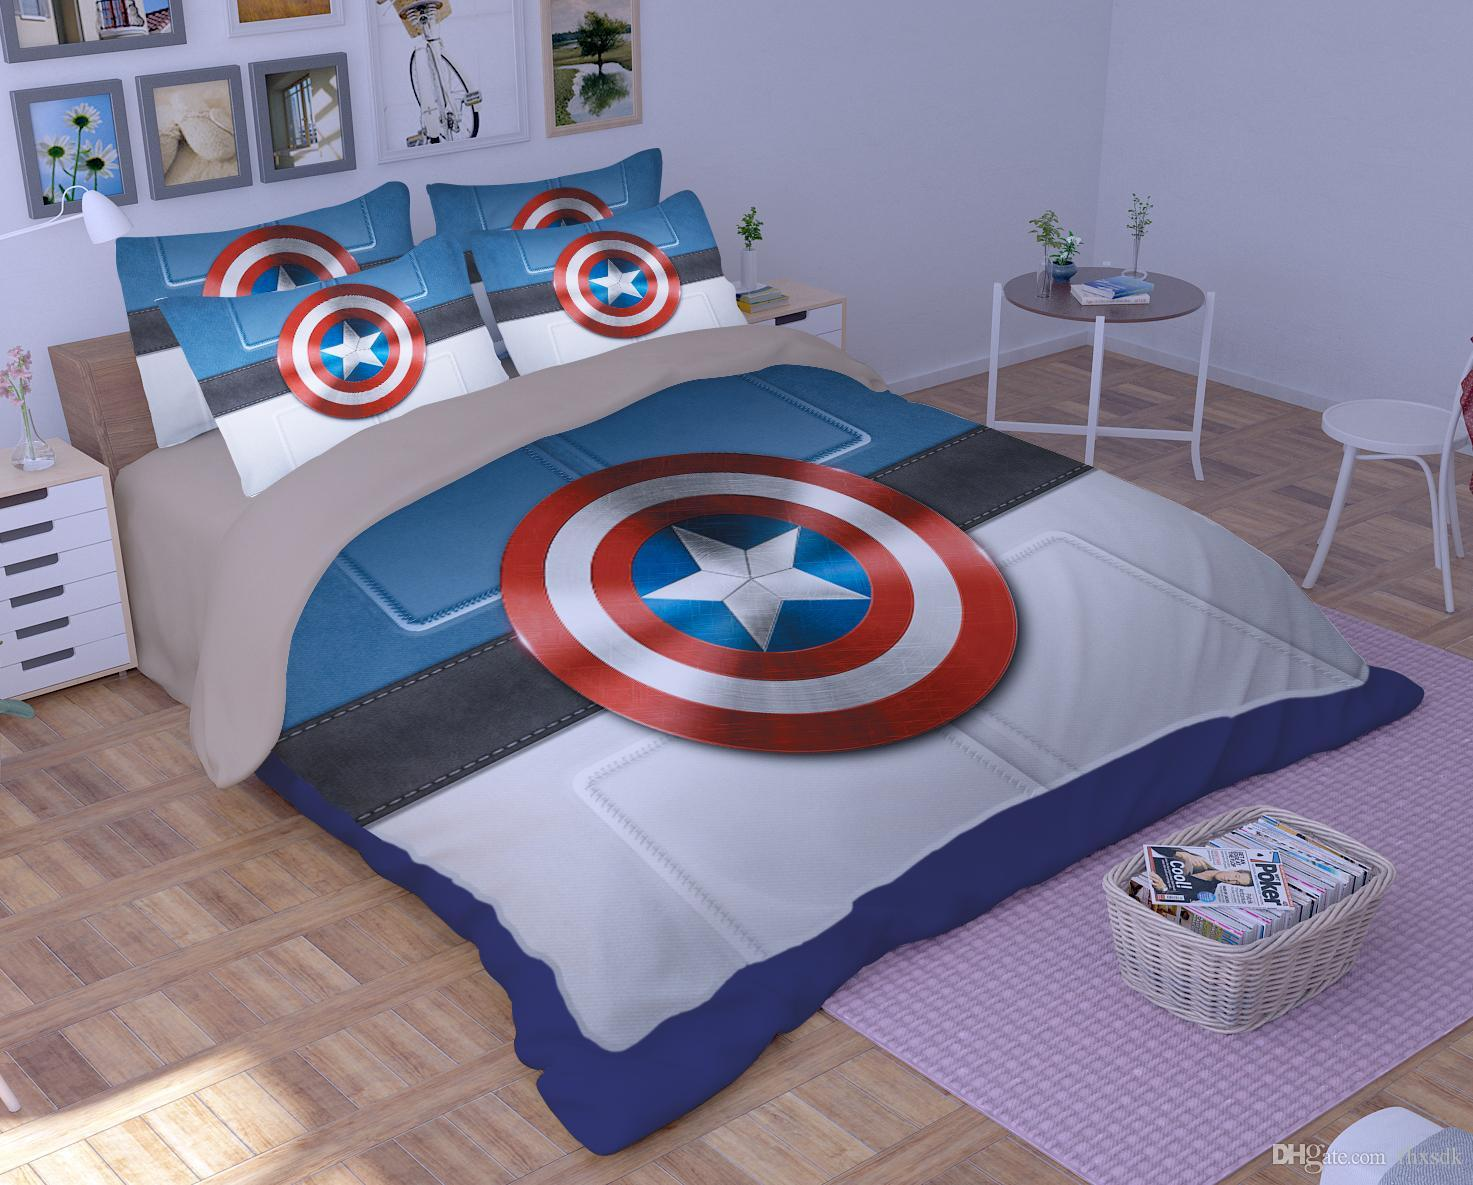bed: (92, 164, 1080, 822)
